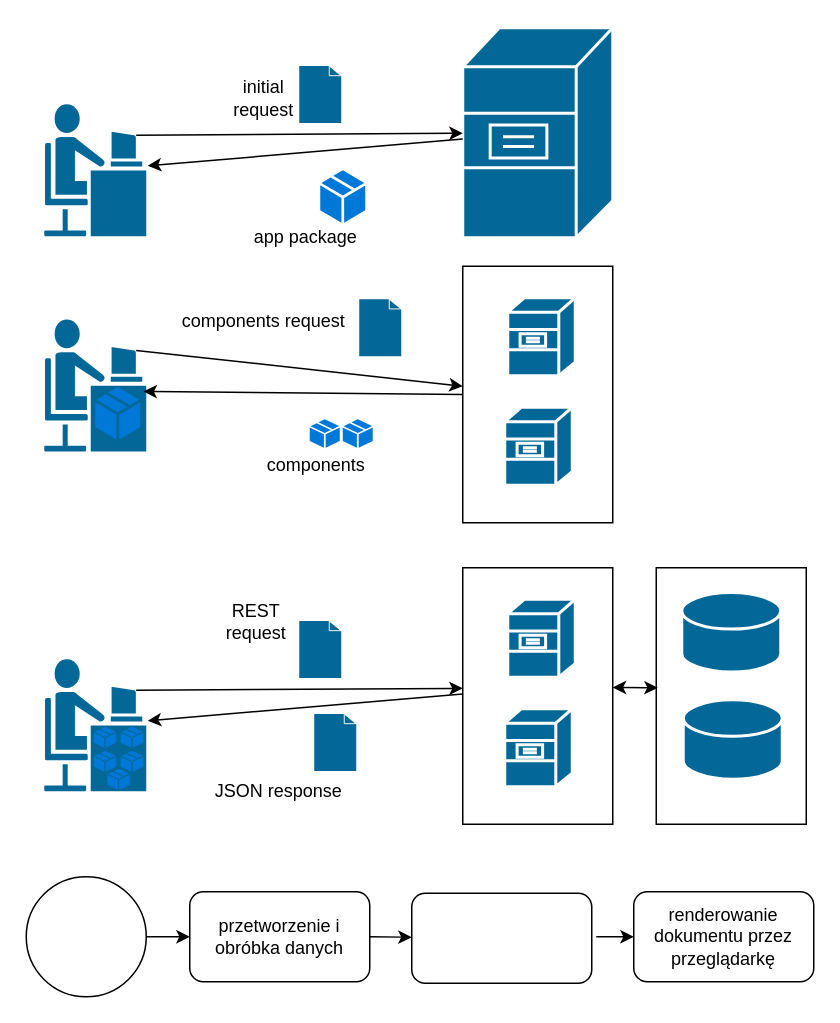
Image size: 840x1023. Some labels were removed from this diagram. The centre of each missing label's shape, as x and y in pixels:
"generowanie struktury HTML" belongs at point (501, 937).
"Otrzymanie dokumentu JSON" belongs at point (85, 936).
